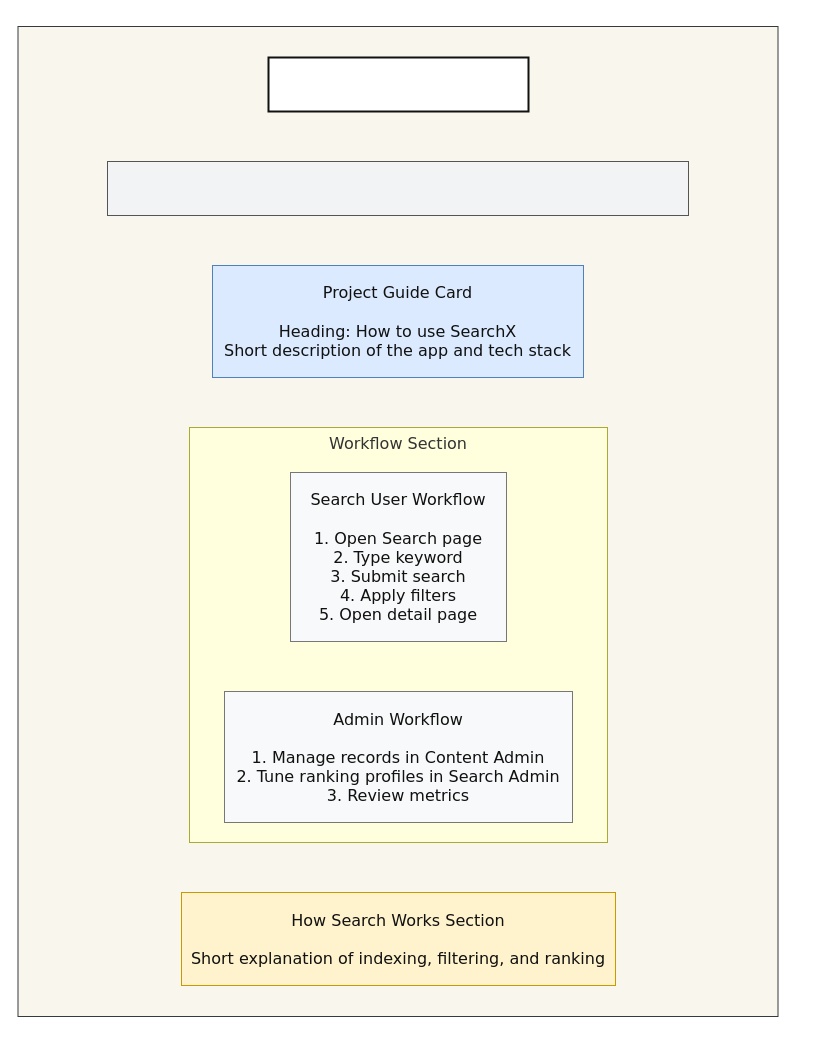
Image size: 815x1053. Some labels were removed from this diagram. The shapes that lost their labels are listed below. From the top down, each one's box as (x1, y1, x2, y2) in pixels, then its label:
(267, 56, 529, 112): How To Use Page Wireframe
(106, 160, 688, 216): Navbar: SearchX | Search | Content Admin | Search Admin | How to Use
